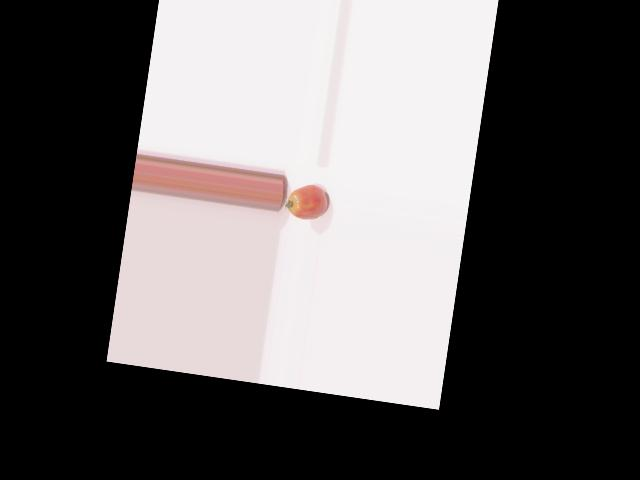tomato: (285, 181, 329, 221)
